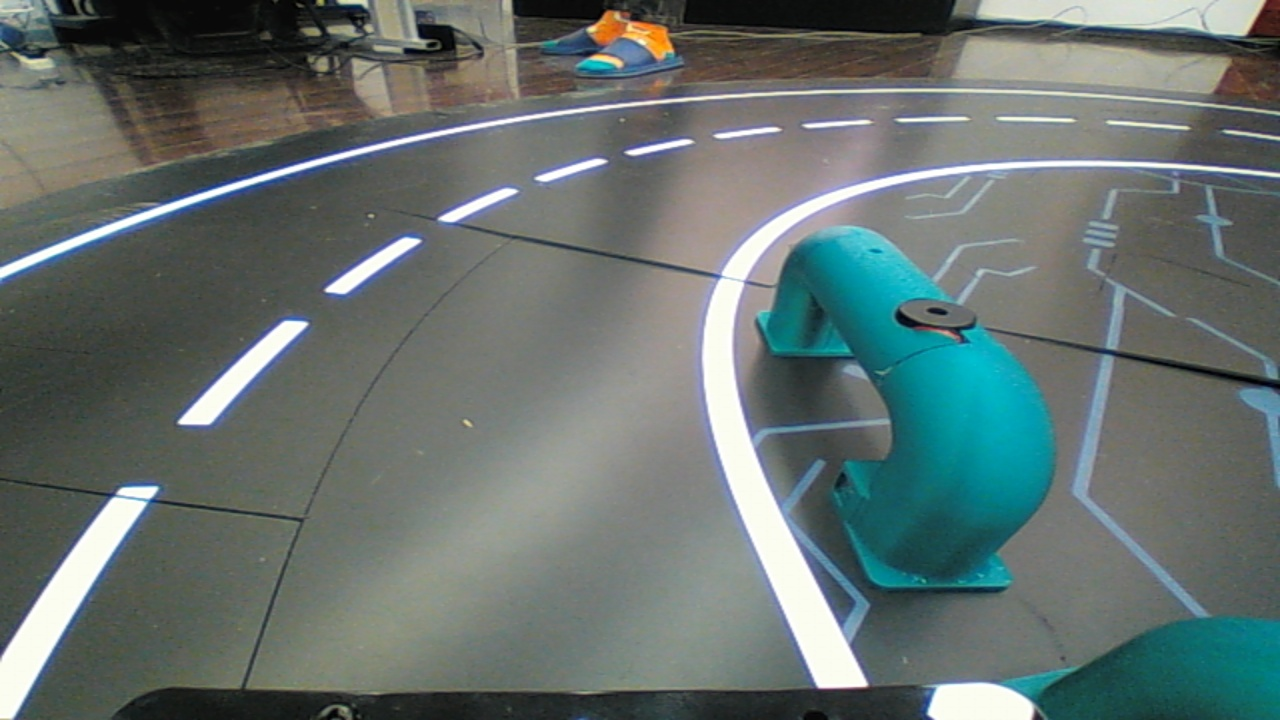Pedestrian crossing: (734, 207, 1080, 599)
